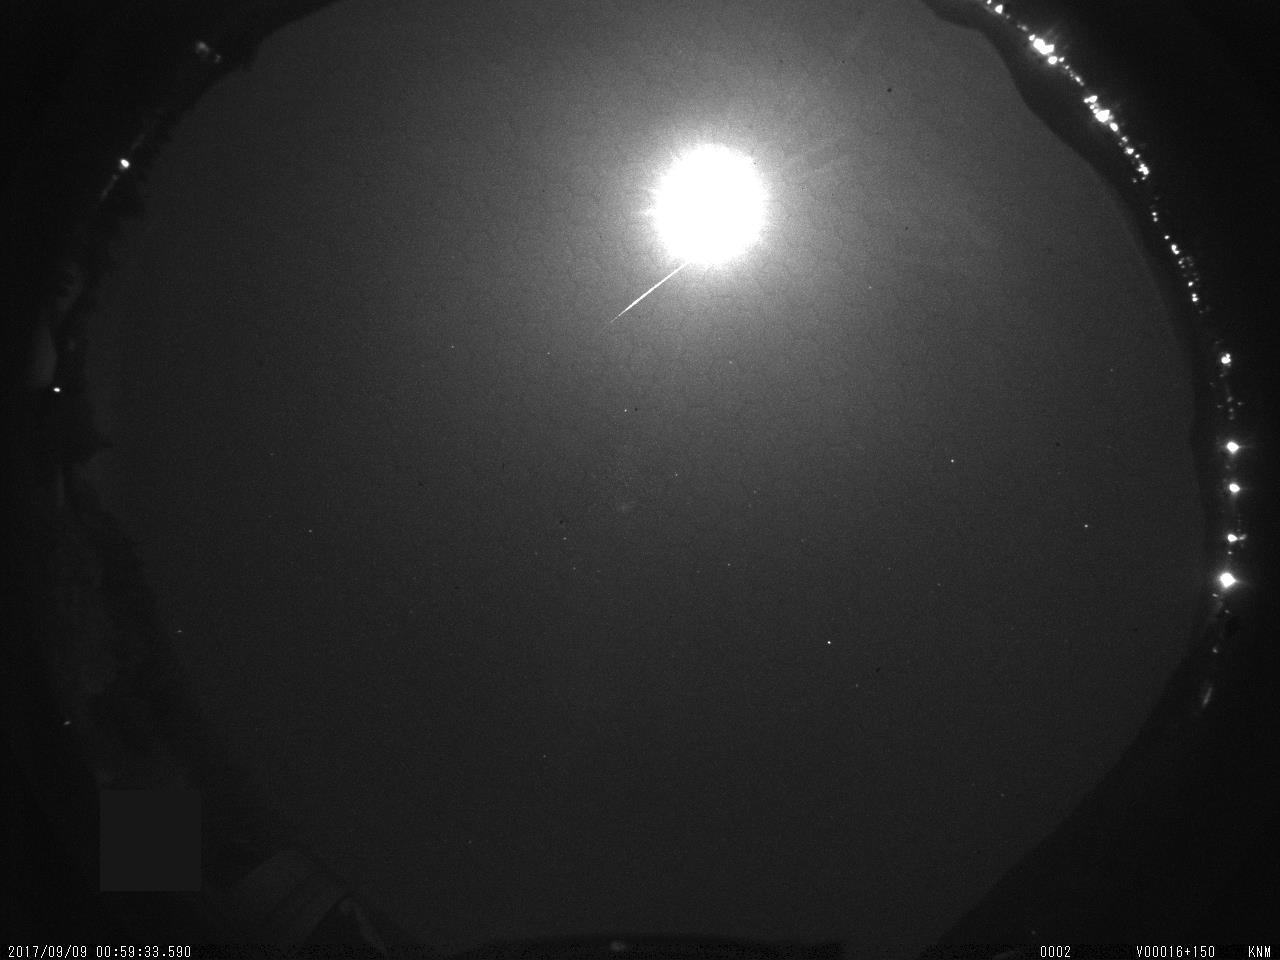Meteor: (605, 260, 688, 327)
